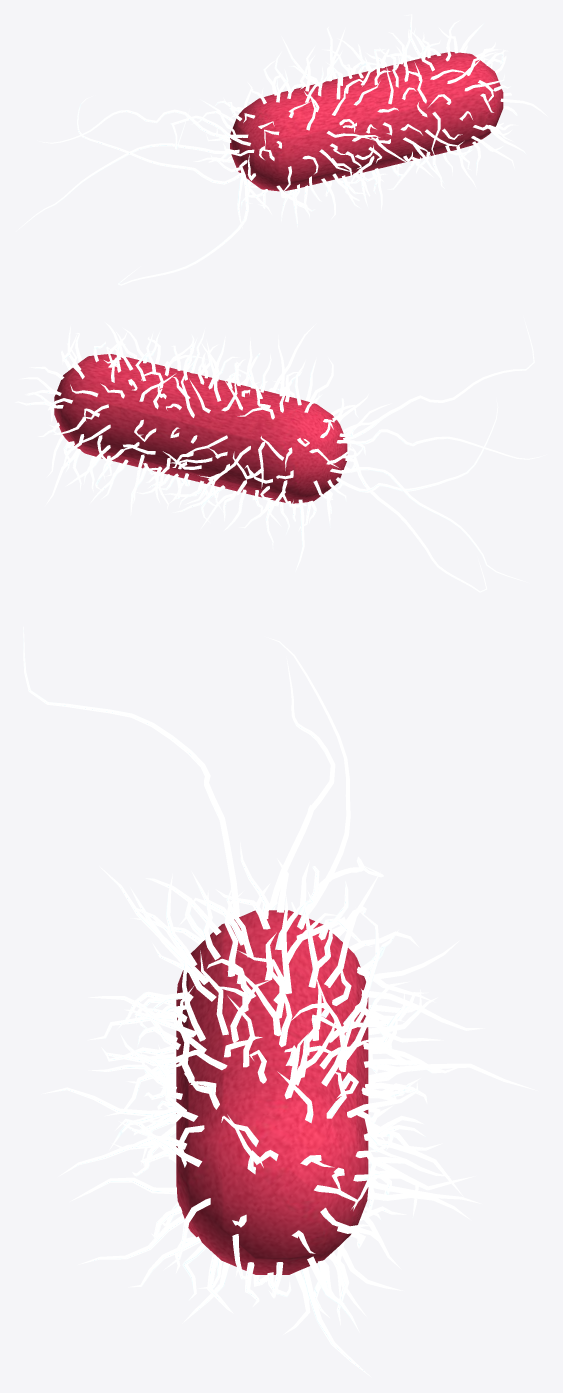
Rendered from sketchfab-bacterium-rod.glb.
3 renders of one model, top to bottom at view 1: azimuth 30°, elevation 25°; view 2: azimuth 150°, elevation 25°; view 3: azimuth 270°, elevation 25°, orthographic. The views are drawn at different scales.
Visible parts, largest first — view 1: Bacterium geo node body, Bacterium Hair, Bacterium geo node body end; view 2: Bacterium geo node body, Bacterium Hair, Bacterium geo node body end; view 3: Bacterium Hair, Bacterium geo node body, Bacterium geo node body end.
Boxes of the visible parts, bbox=[...] form: Bacterium geo node body: bbox=[230, 51, 503, 191]; Bacterium Hair: bbox=[191, 14, 547, 228]; Bacterium geo node body end: bbox=[16, 96, 250, 285]; Bacterium geo node body: bbox=[54, 354, 347, 503]; Bacterium Hair: bbox=[15, 322, 391, 571]; Bacterium geo node body end: bbox=[330, 317, 546, 592]; Bacterium Hair: bbox=[41, 842, 537, 1377]; Bacterium geo node body: bbox=[176, 910, 368, 1274]; Bacterium geo node body end: bbox=[23, 626, 383, 1053].
Size of the model in its own units: 13.23 by 5.63 by 6.1.
2 materials, 1 textured.
